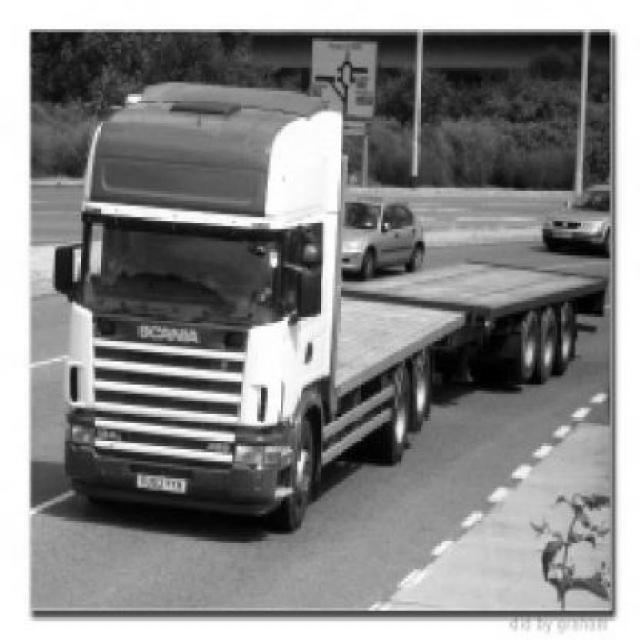Box Truck: (53, 83, 469, 536), (342, 262, 607, 385)
